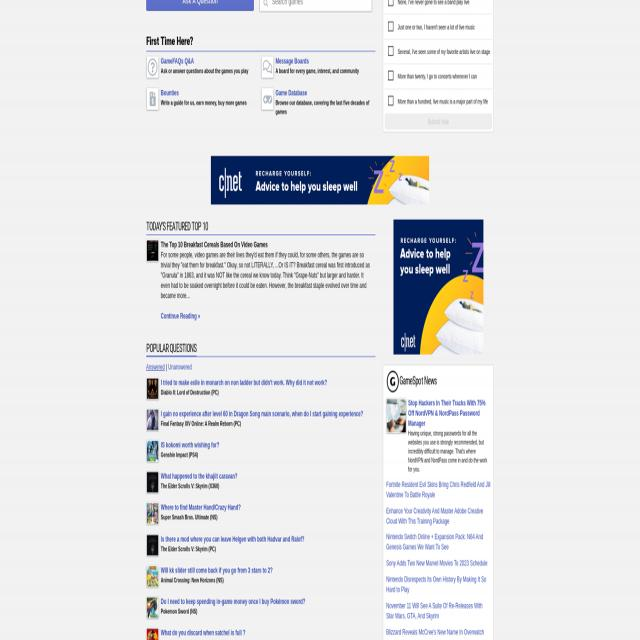button: (394, 219, 484, 355), (211, 156, 429, 206), (385, 114, 492, 130), (146, 0, 254, 11), (386, 398, 406, 434), (387, 370, 399, 392), (147, 409, 159, 431), (147, 440, 159, 462), (147, 534, 159, 556), (147, 565, 159, 587), (147, 88, 159, 109), (262, 88, 274, 109), (147, 240, 159, 261), (147, 378, 159, 399), (147, 472, 159, 493), (147, 503, 159, 524), (147, 597, 159, 618), (147, 57, 159, 78), (262, 57, 274, 78), (262, 0, 270, 8)
field: (260, 0, 372, 12), (388, 21, 393, 32), (388, 47, 394, 56), (388, 96, 393, 106), (388, 71, 393, 80), (388, 0, 393, 6)
